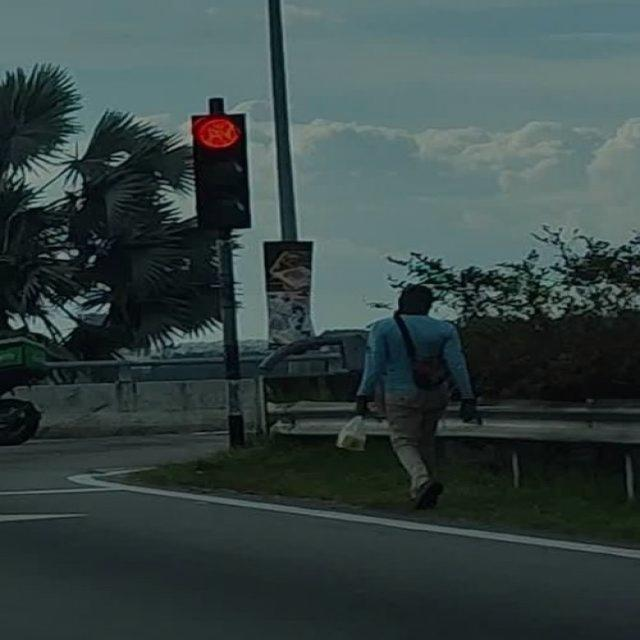Red: (193, 112, 247, 224)
